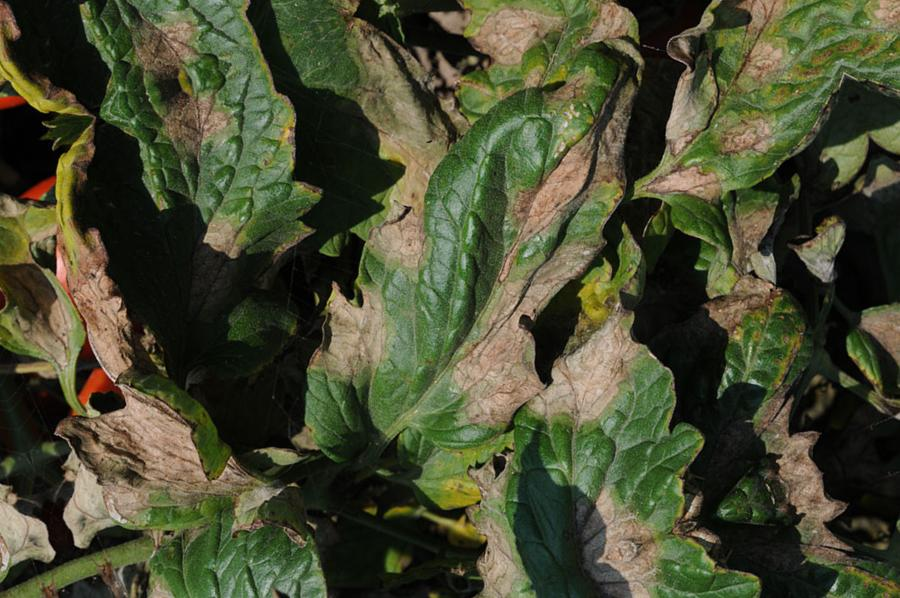Tomato leaf late blight: (195, 11, 747, 499), (379, 279, 739, 598), (0, 268, 322, 598), (59, 44, 377, 373), (537, 0, 876, 244), (75, 476, 388, 598)
